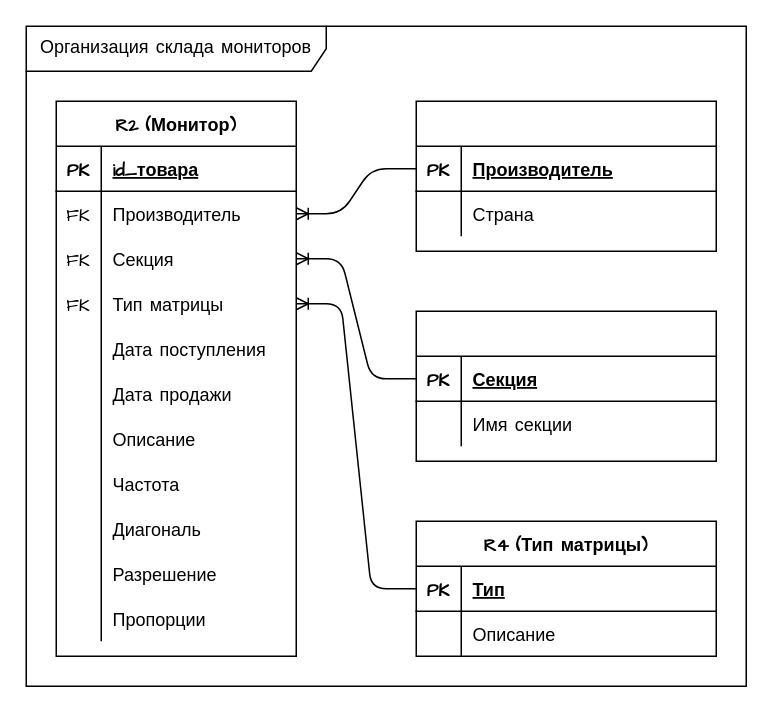
Some shapes in this 773 by 713 pixel diagram are drawn without their labels. Here are the shapes that lost their labels. From the top down, the box of each, then its label:
(415, 100, 716, 251): R1 (Производитель)
(415, 310, 716, 461): R3 (Секция на складе)
